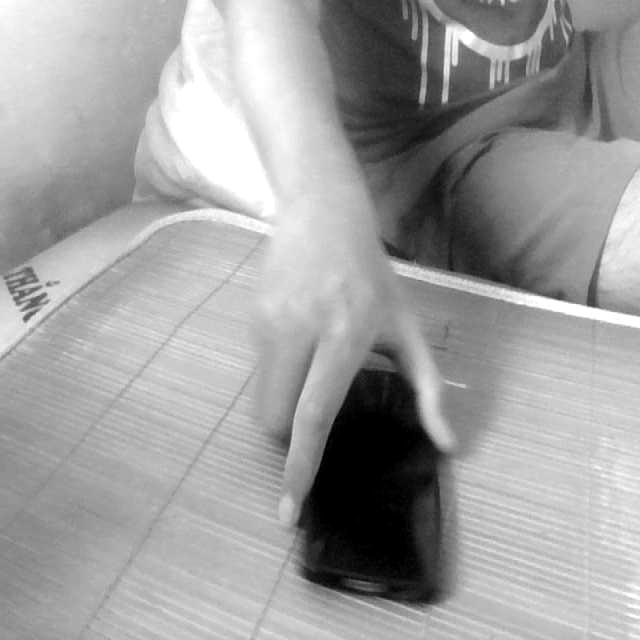phone: (278, 328, 461, 606)
